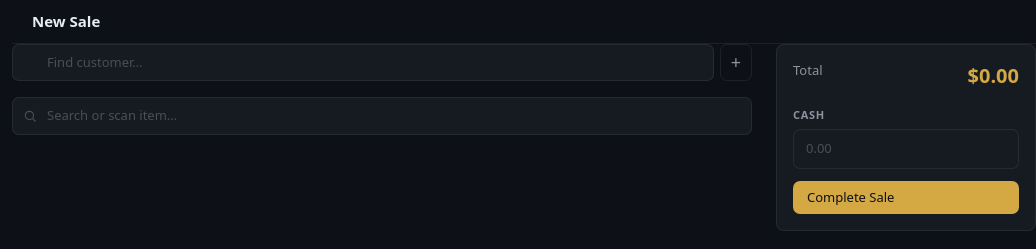
Test case: SaleScreen › removes a sale line from the display when the remove button is clicked
Type "Diamond" into the search field labelled "Search or scan item…" at (382, 116), box [12, 97, 752, 134]
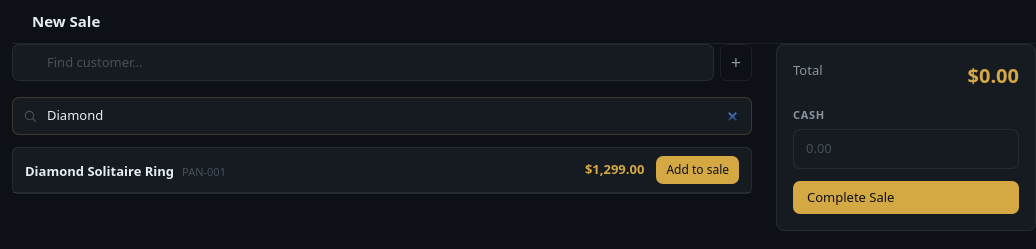
Click the button "Add to sale" at (698, 170), box [656, 156, 739, 184]
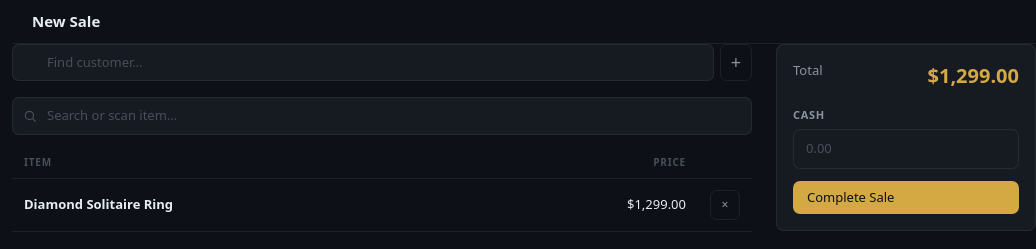
Expected: the text "Diamond Solitaire Ring" is shown, [24, 195, 173, 213]
Click the button "×" at (725, 204), box [710, 190, 740, 220]
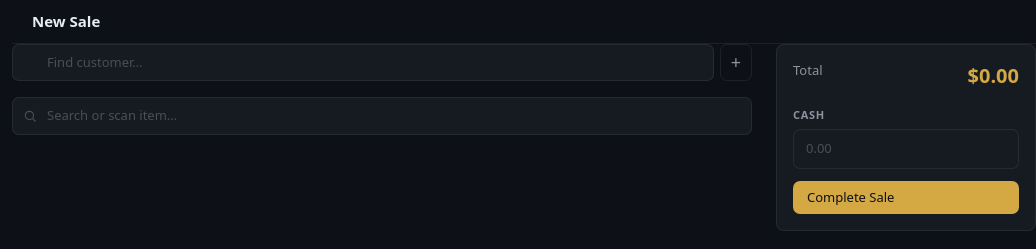
Expected: the text "Diamond Solitaire Ring" is gone
